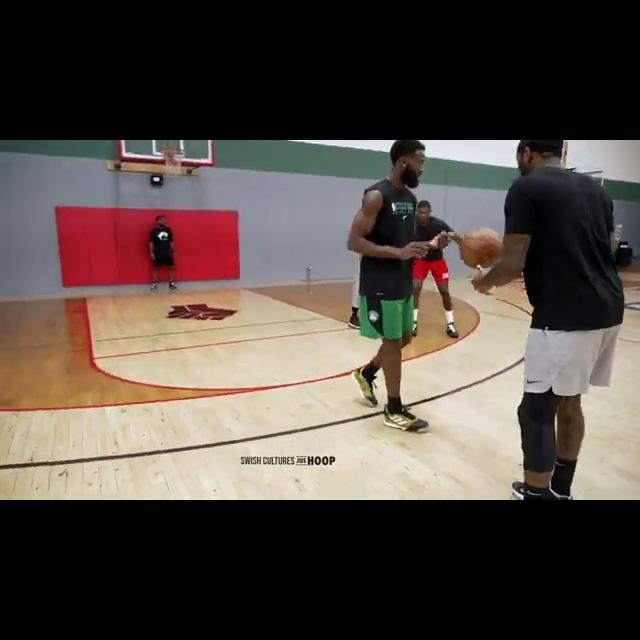basketball: (459, 228, 505, 271)
hoop: (159, 147, 188, 179)
person: (475, 140, 627, 498), (348, 140, 428, 434), (397, 199, 465, 337), (145, 213, 182, 293), (343, 243, 368, 327)
